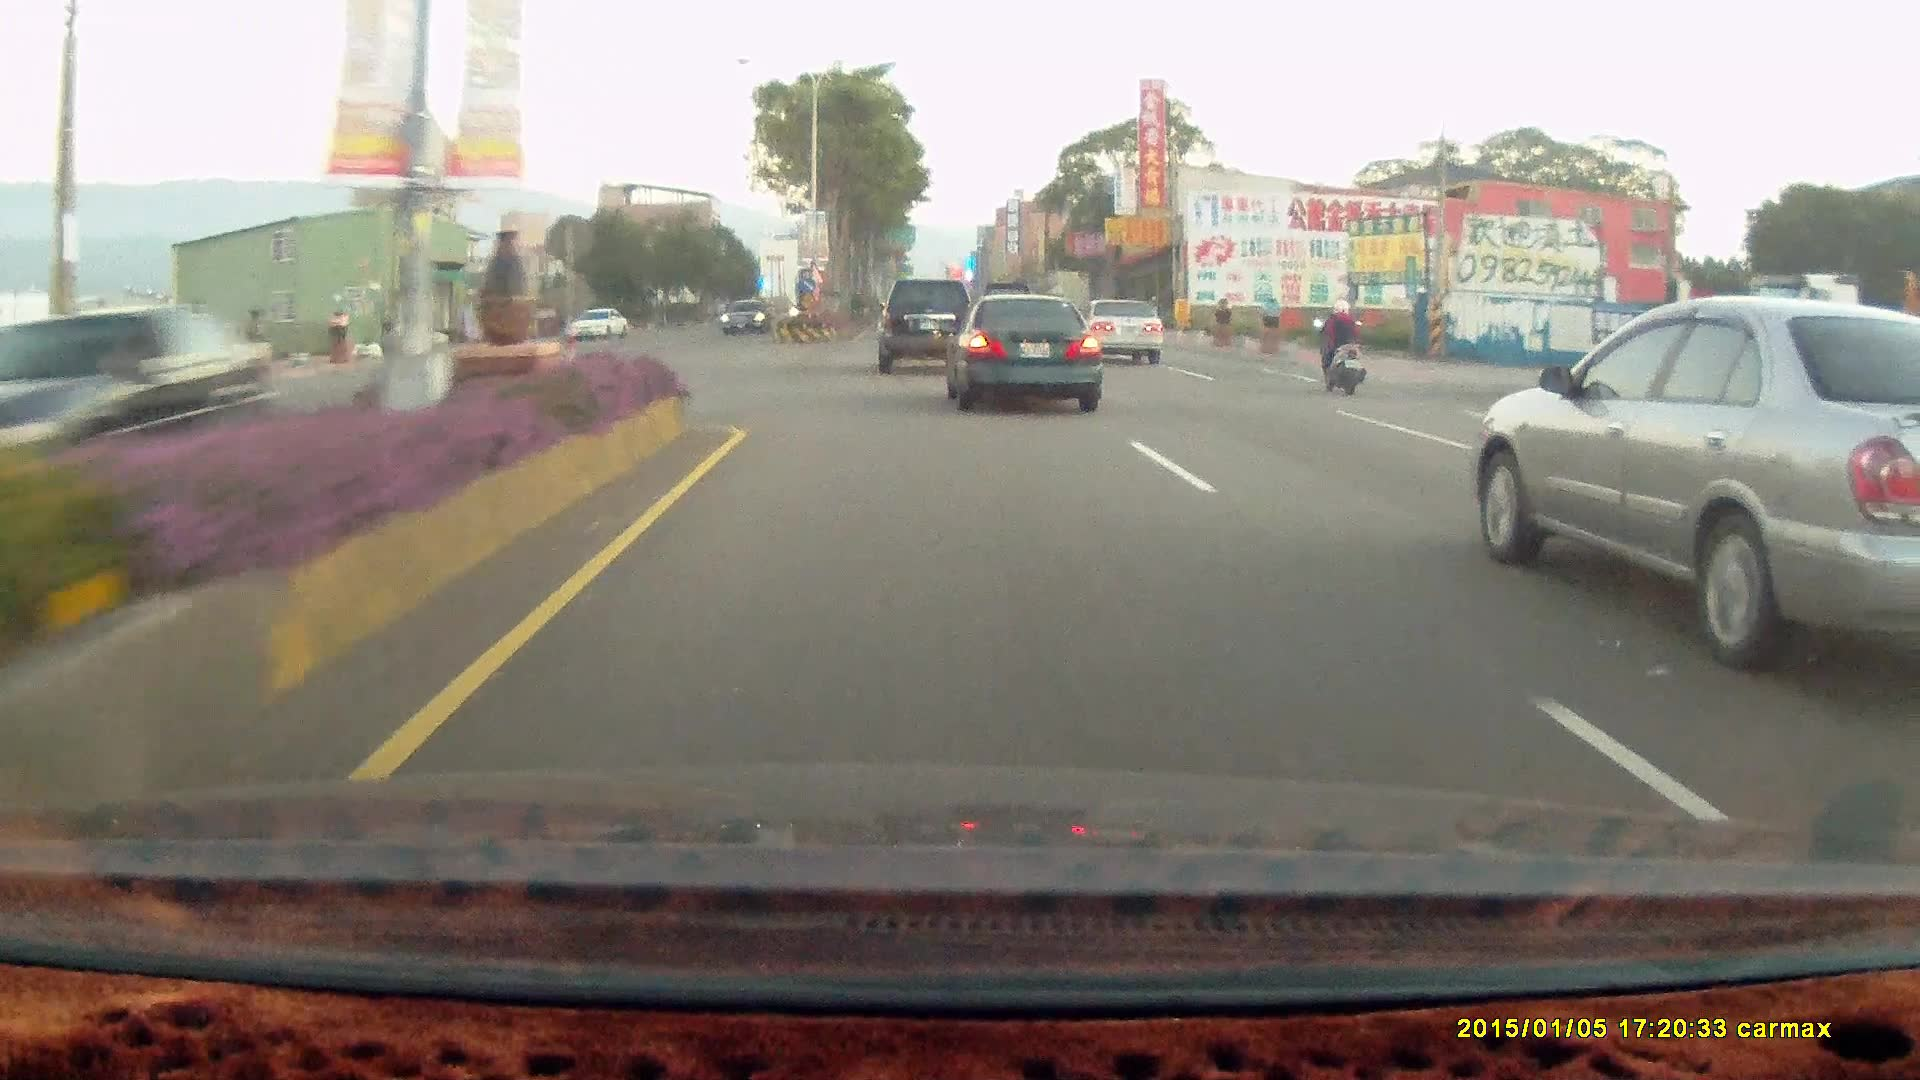rider: (1305, 288, 1377, 405), (1309, 298, 1365, 396)
vehicle: (1466, 303, 1920, 674), (0, 288, 275, 509), (934, 292, 1095, 410), (953, 296, 1111, 416), (880, 277, 981, 374), (876, 281, 974, 377), (1078, 296, 1164, 366), (1078, 298, 1165, 369), (568, 308, 632, 344), (566, 307, 629, 341), (719, 299, 772, 340), (719, 299, 771, 336)
